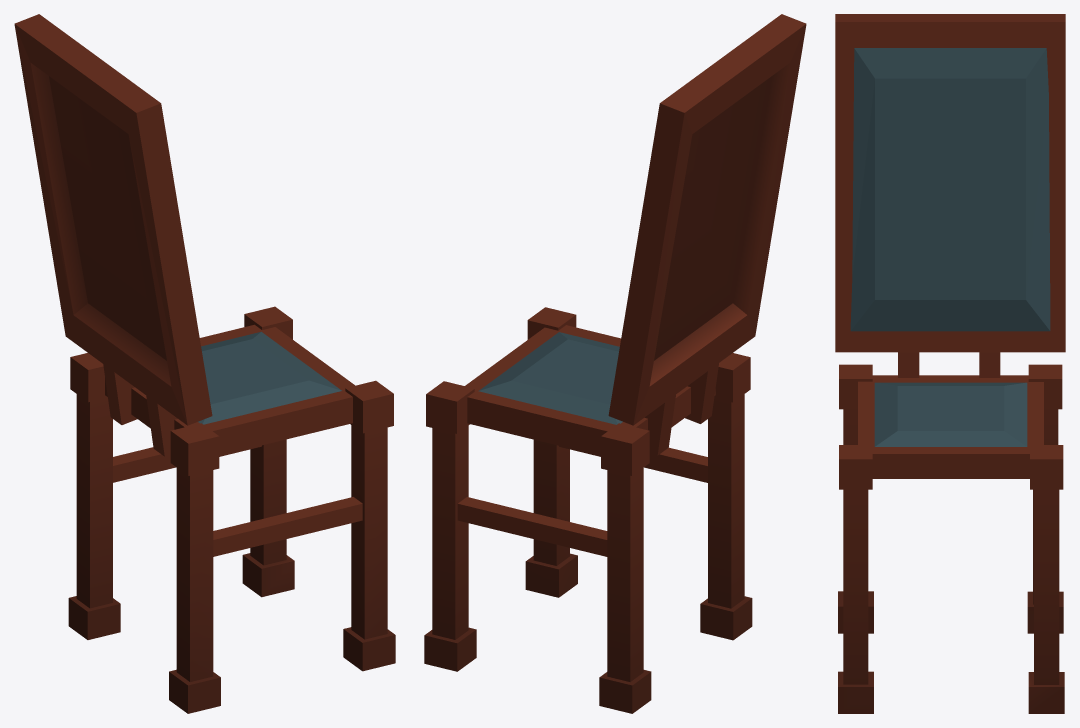
Rendered from fancychair.glb.
The picture shows the model from 3 angles, left to right: view 1: azimuth 30°, elevation 25°; view 2: azimuth 150°, elevation 25°; view 3: azimuth 270°, elevation 25°; orthographic projection. The views are drawn at different scales.
Visible parts, largest first — view 1: Cube.019; view 2: Cube.019; view 3: Cube.019.
Part boxes in pixels (left/top/right/bottom): Cube.019: left=14, top=14, right=395, bottom=713; Cube.019: left=424, top=14, right=806, bottom=713; Cube.019: left=835, top=14, right=1065, bottom=713.
Size of the model in its own units: 0.6232 by 1.41 by 0.5052.
